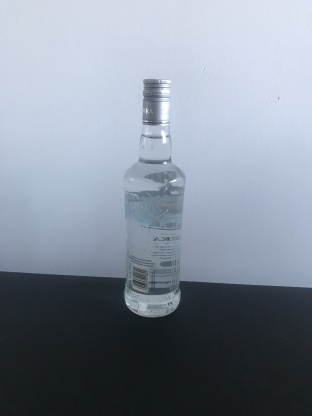nakretka: (141, 77, 172, 127)
